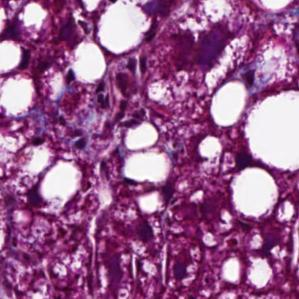inflammation: (165, 256, 206, 290), (134, 217, 170, 250)
